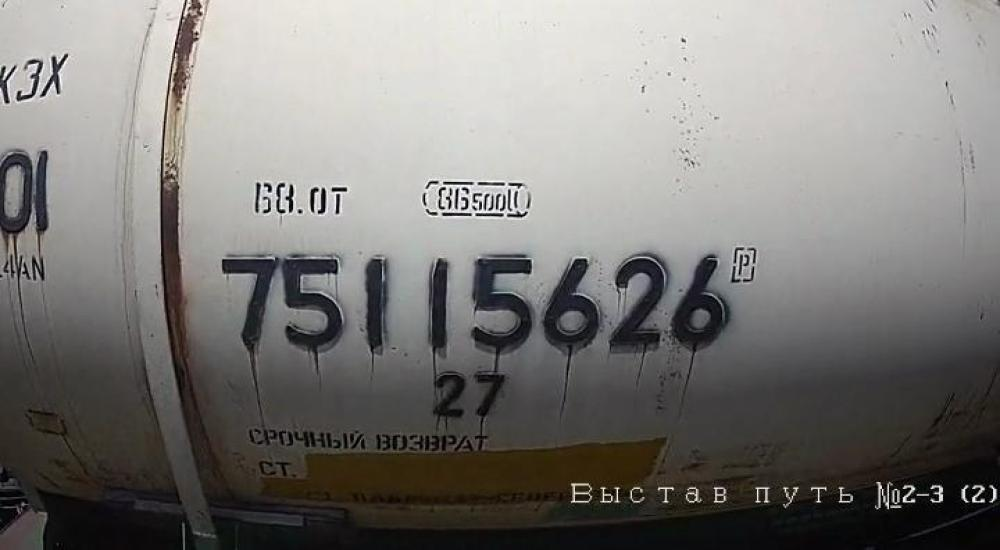Wagon-number: (217, 250, 736, 357)
